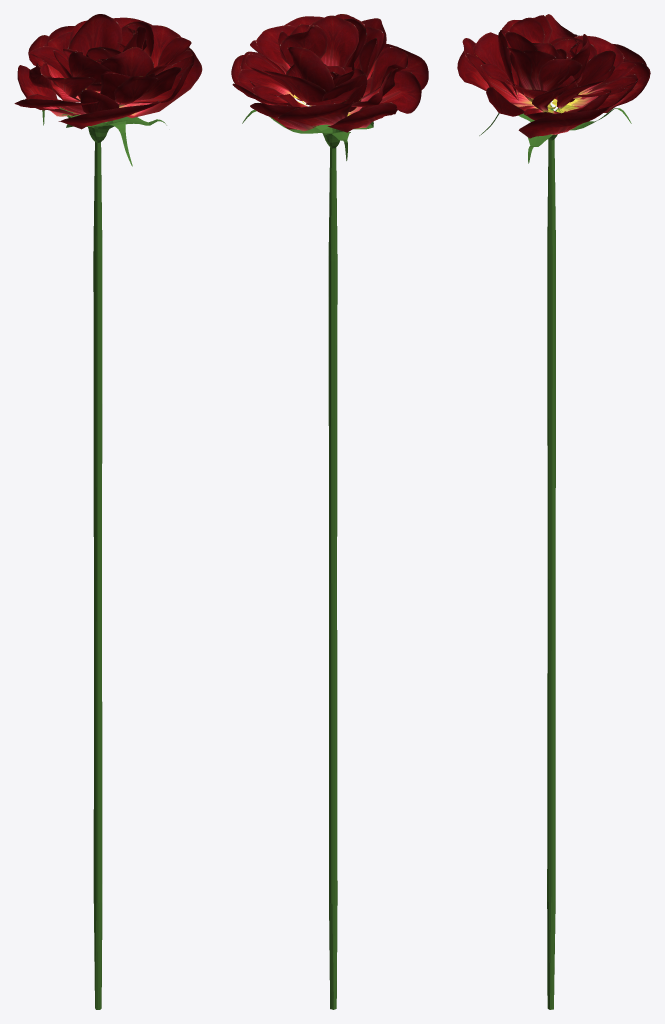
File: red_rose.glb
3 renders of one model, left to right at view 1: azimuth 30°, elevation 25°; view 2: azimuth 150°, elevation 25°; view 3: azimuth 270°, elevation 25°, orthographic.
Visible parts, largest first — view 1: Object_3, Object_2; view 2: Object_3, Object_2; view 3: Object_3, Object_2.
Part boxes in pixels (<box>): Object_3: <box>14,14,202,129</box>; Object_2: <box>42,108,166,1009</box>; Object_3: <box>231,14,428,132</box>; Object_2: <box>242,109,373,1009</box>; Object_3: <box>457,14,650,138</box>; Object_2: <box>479,104,631,1009</box>.
Size of the model in its own units: 32.5 by 172 by 30.65.
2 materials, 1 textured.
